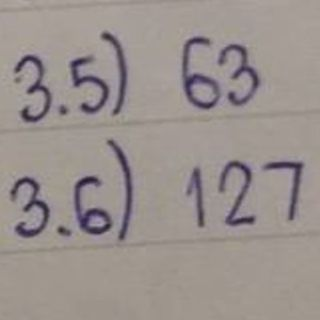.: (54, 223, 74, 241), (56, 102, 70, 118)
1: (183, 164, 207, 230)
2: (215, 159, 259, 227)
3: (12, 52, 53, 124), (218, 42, 263, 107), (8, 174, 51, 238)
5: (68, 53, 110, 115)
6: (180, 34, 221, 110), (71, 174, 113, 235)
7: (263, 159, 303, 223)
